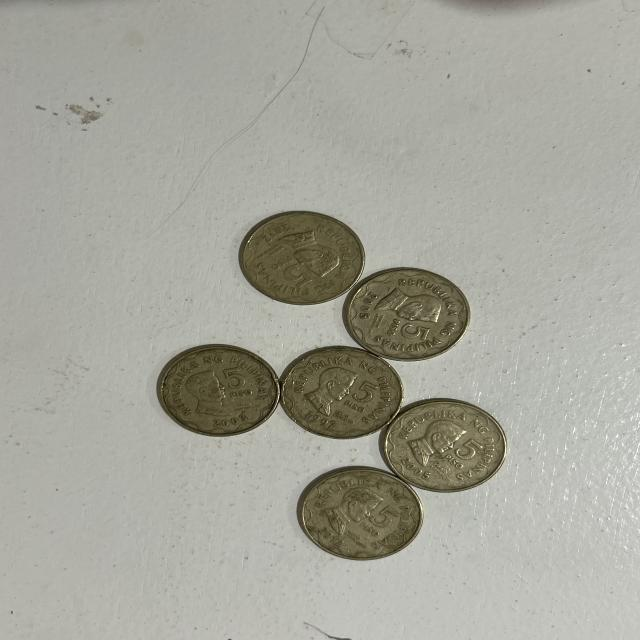5_Old_Front: (442, 434, 492, 472), (264, 254, 309, 294), (222, 367, 267, 406), (382, 314, 437, 345), (356, 505, 404, 535), (345, 383, 386, 418)
